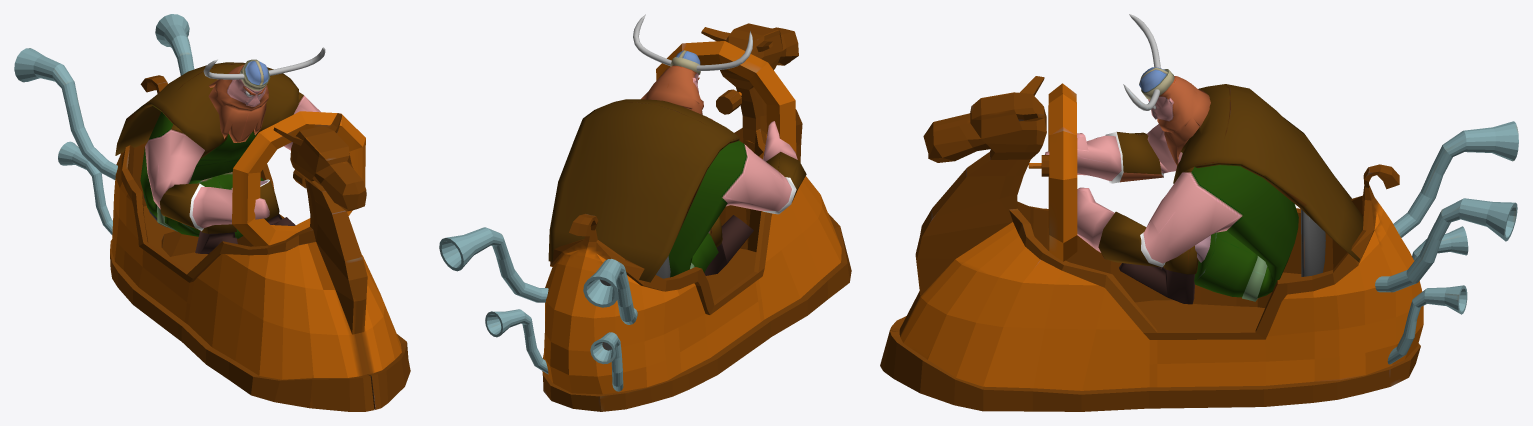
File: vikingoVacile_000433.obj
The picture shows the model from 3 angles, left to right: view 1: azimuth 30°, elevation 25°; view 2: azimuth 150°, elevation 25°; view 3: azimuth 270°, elevation 25°; orthographic projection. The views are drawn at different scales.
Visible parts, largest first — view 1: kartVikingo, Vikingo; view 2: kartVikingo, Vikingo; view 3: kartVikingo, Vikingo.
Part boxes in pixels (x1,y1,x2,y2): kartVikingo: (14, 14, 410, 411); Vikingo: (115, 47, 325, 254); kartVikingo: (439, 23, 851, 411); Vikingo: (548, 14, 806, 282); kartVikingo: (880, 76, 1518, 411); Vikingo: (1045, 14, 1363, 304).
Size of the model in its own units: 4.14 by 5.83 by 10.31.
2 materials, 2 textured.
